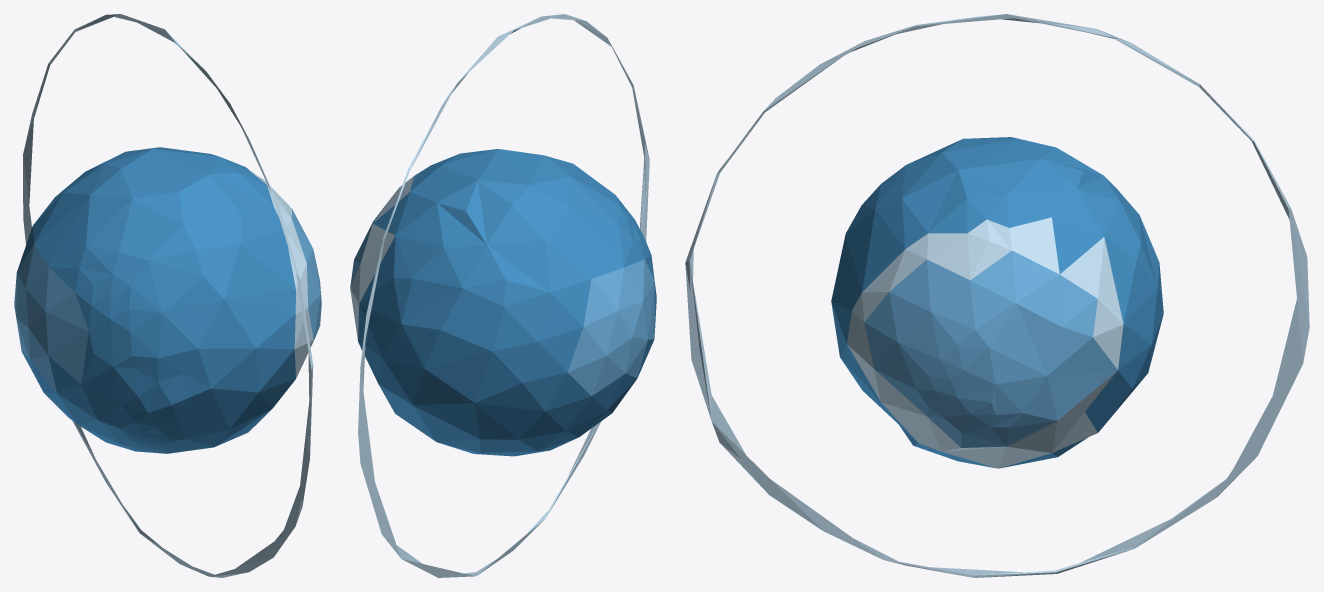
File: uranus.glb
3 renders of one model, left to right at view 1: azimuth 30°, elevation 25°; view 2: azimuth 150°, elevation 25°; view 3: azimuth 270°, elevation 25°, orthographic. The views are drawn at different scales.
Parts seen in each view (by area): view 1: Torus_Planets_0; view 2: Torus_Planets_0; view 3: Torus_Planets_0.
Boxes of the visible parts, x1,y1,x2,y2 form: Torus_Planets_0: [14, 14, 321, 577]; Torus_Planets_0: [350, 14, 656, 577]; Torus_Planets_0: [685, 14, 1309, 577].
Bounding box in the file's own units: 4.04 × 7.58 × 7.61.
1 material, 1 textured.
